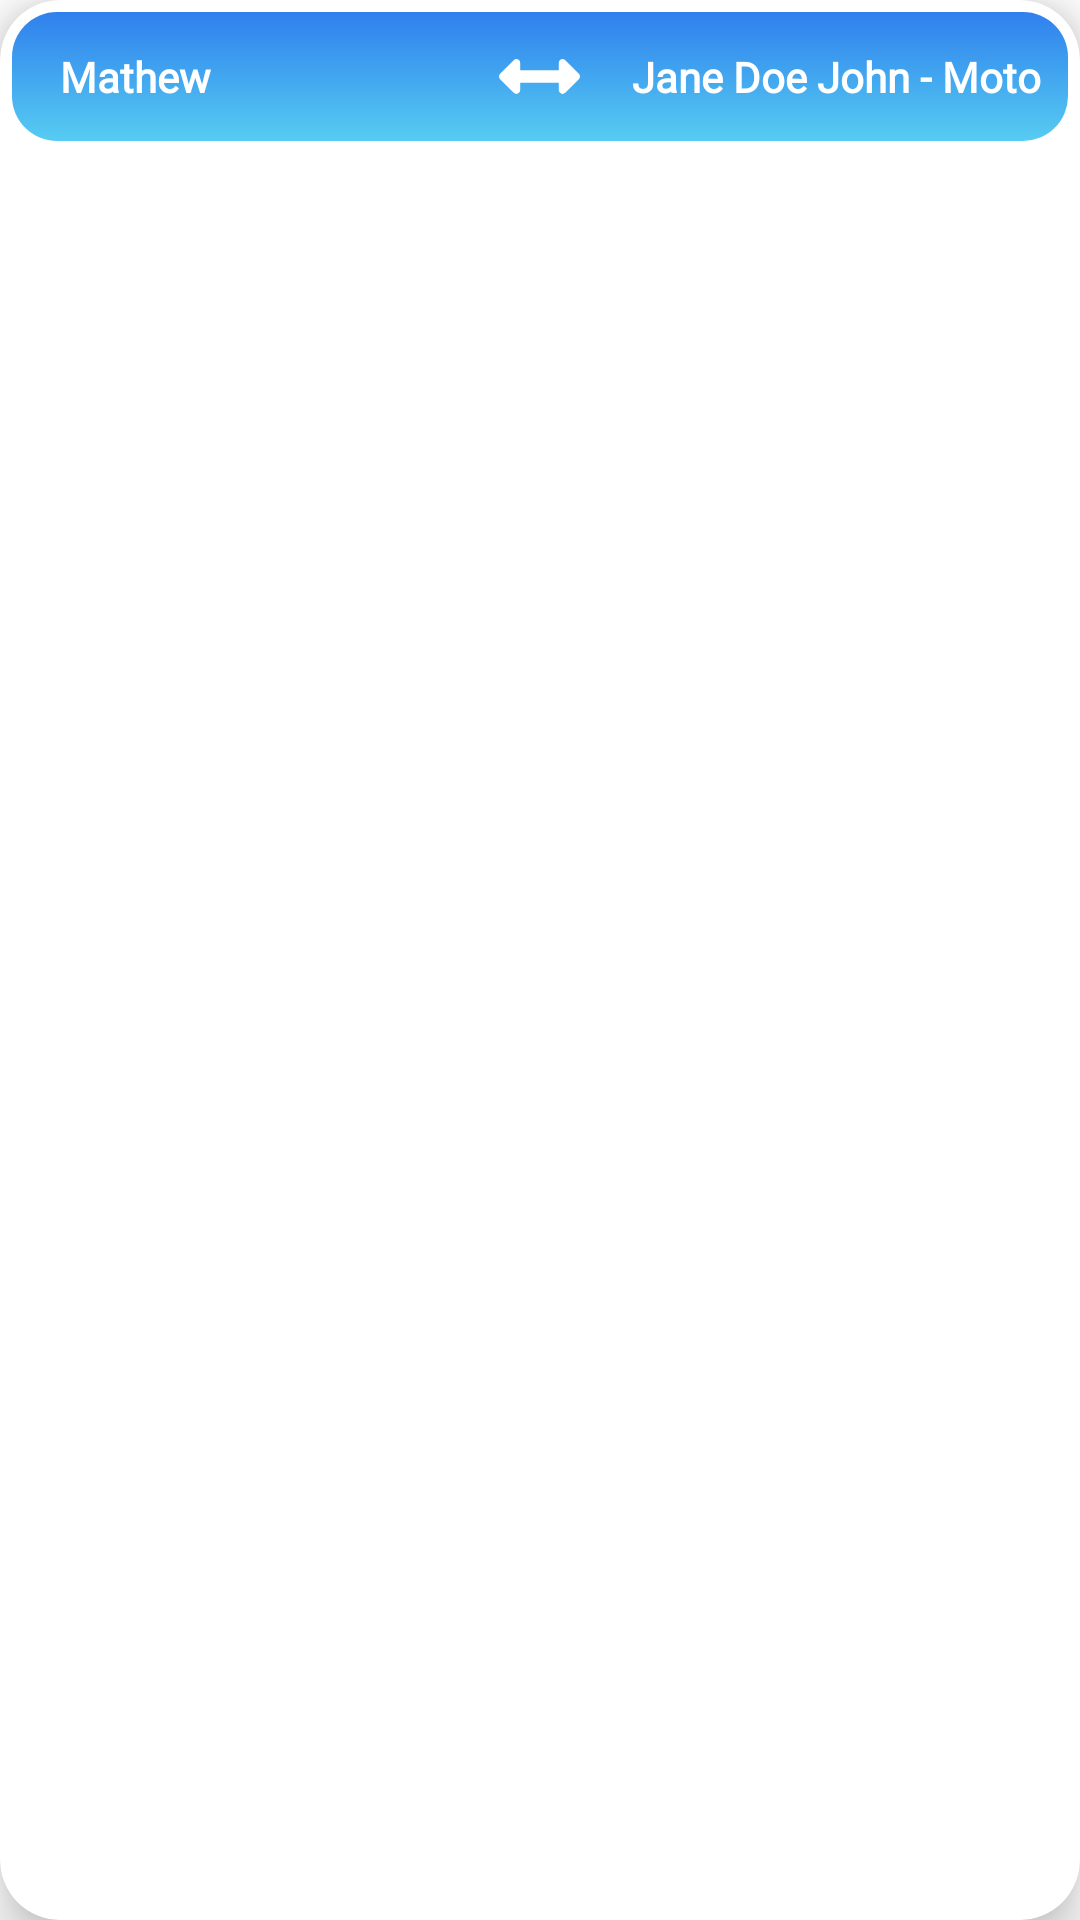

Named icons in this screenshot (1080 × 1920) and their centers, point (x, y):
arrows: point (539, 76)
